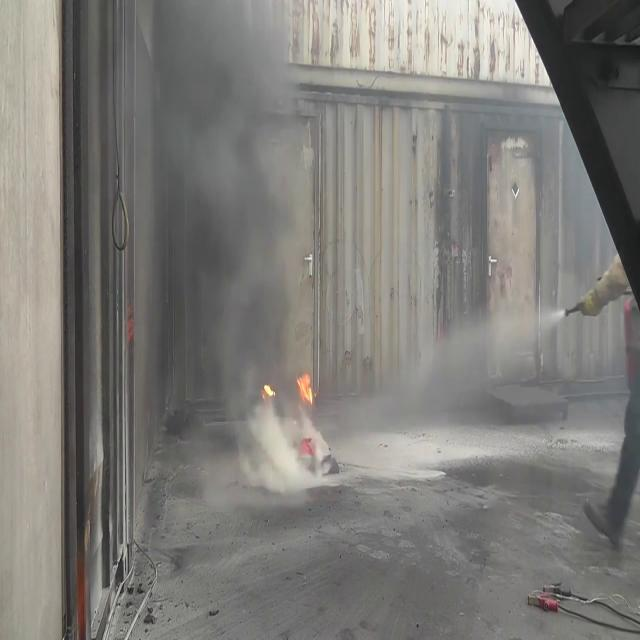Fire: (295, 364, 315, 408)
Smoke: (148, 2, 296, 508)
